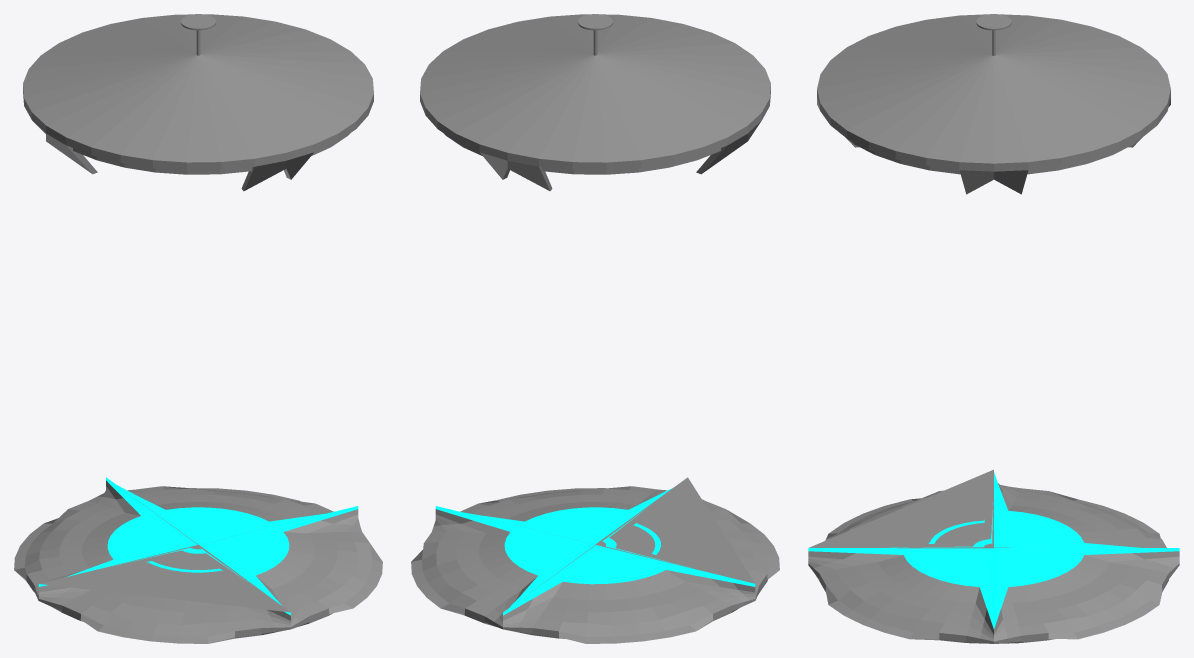
File: Begin_Portail.fbx
3 views of the same model, side by side, from view 1: azimuth 30°, elevation 25°; view 2: azimuth 150°, elevation 25°; view 3: azimuth 270°, elevation 25° (orthographic).
Visible parts, largest first — view 1: Cube; view 2: Cube; view 3: Cube.
Boxes of the visible parts, <box> form: Cube: <box>14,14,382,643</box>; Cube: <box>411,14,779,643</box>; Cube: <box>808,14,1179,643</box>.
Bounding box in the file's own units: 210 × 342 × 210.
